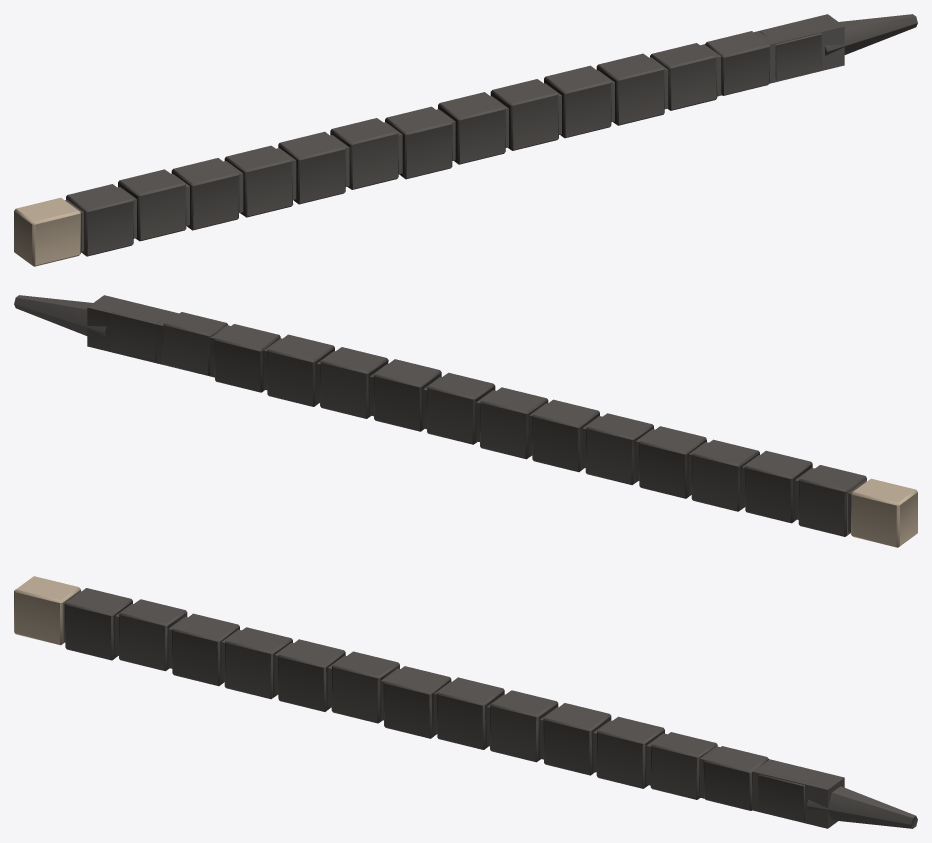
File: beam_charred.glb
3 renders of one model, top to bottom at view 1: azimuth 30°, elevation 25°; view 2: azimuth 150°, elevation 25°; view 3: azimuth 330°, elevation 25°, orthographic.
Visible parts, largest first — view 1: static; view 2: static; view 3: static.
Boxes of the visible parts, <box> form: static: <box>14,14,917,266</box>; static: <box>14,295,917,547</box>; static: <box>14,576,917,828</box>.
Bounding box in the file's own units: 4.56 × 0.2436 × 0.2047.
